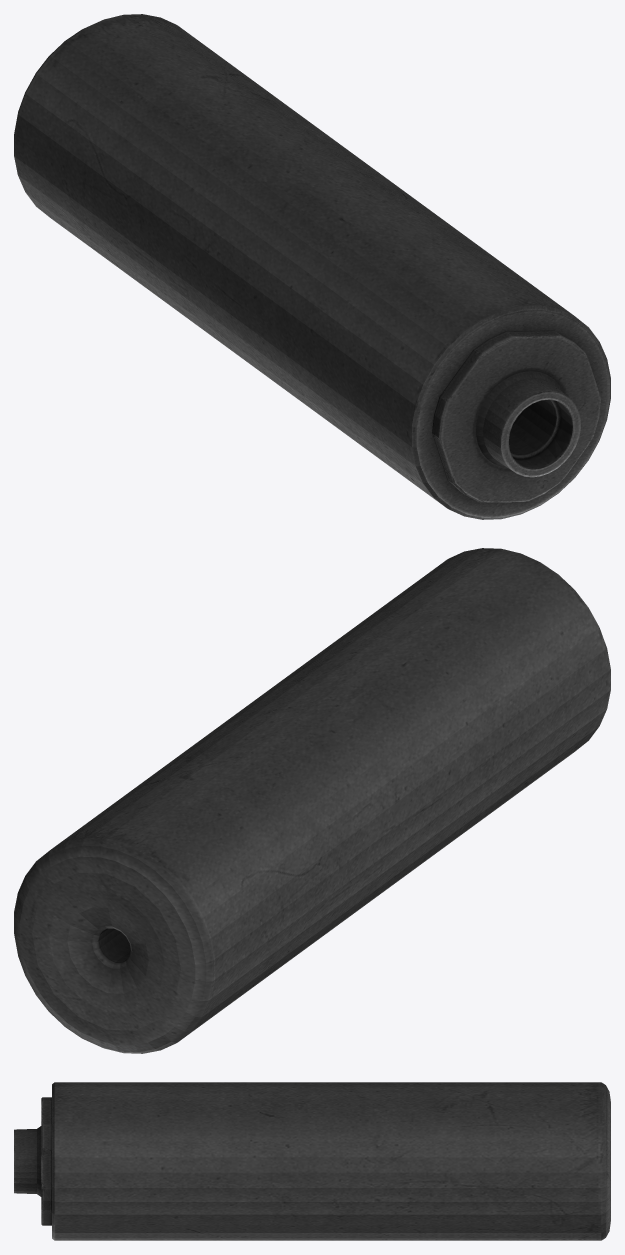
3 views of the same model, one above another, from view 1: azimuth 30°, elevation 25°; view 2: azimuth 150°, elevation 25°; view 3: azimuth 270°, elevation 25° (orthographic). The views are drawn at different scales.
Visible parts, largest first — view 1: TW_634eba08f69c710e0108d386_PZ_Import; view 2: TW_634eba08f69c710e0108d386_PZ_Import; view 3: TW_634eba08f69c710e0108d386_PZ_Import.
Boxes of the visible parts, <box> form: TW_634eba08f69c710e0108d386_PZ_Import: <box>14,14,610,519</box>; TW_634eba08f69c710e0108d386_PZ_Import: <box>14,548,610,1053</box>; TW_634eba08f69c710e0108d386_PZ_Import: <box>14,1082,610,1240</box>.
Size of the model in its own units: 0.0261 by 0.0985 by 0.0261.
Materials: 1 (1 with a texture image).
